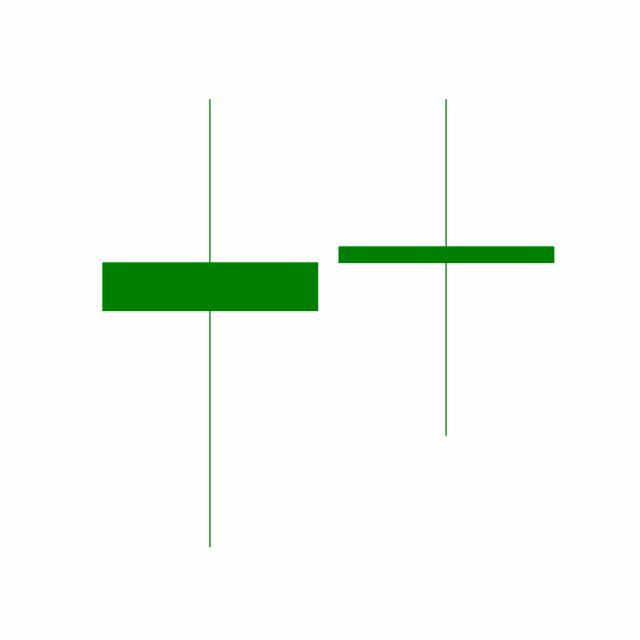Spinning Top: (328, 96, 566, 441)
